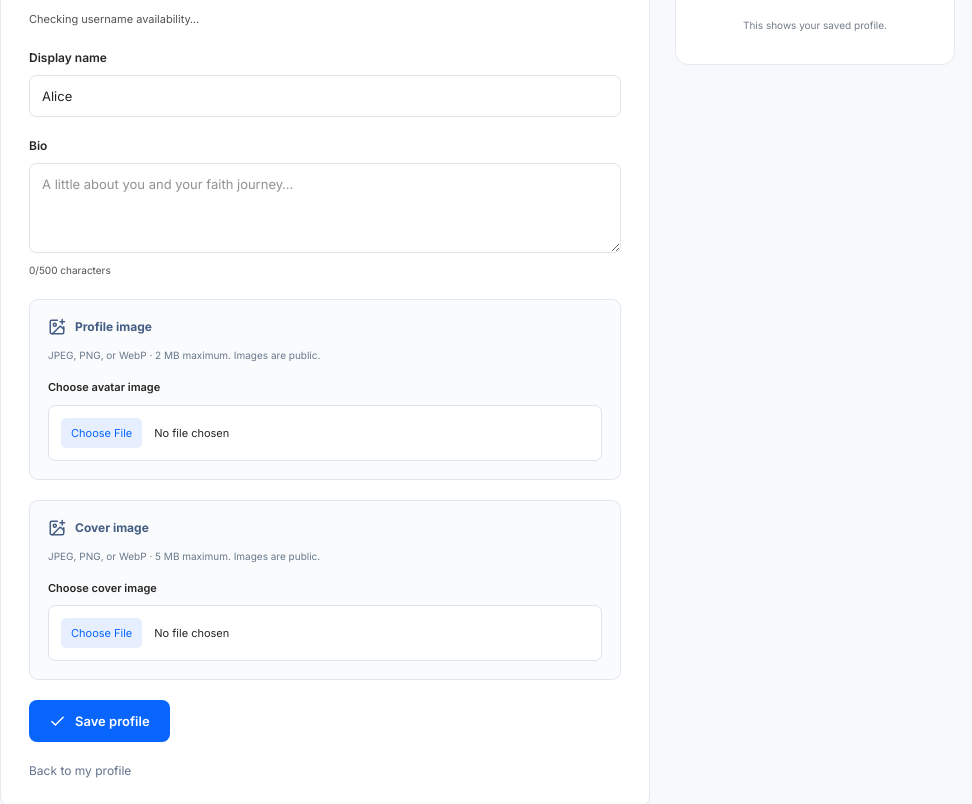
Test: secure profile editing UI › handles a username race reported by the database without claiming a successful save
(page scrolled)
Click the button "Save profile" at {"x": 99, "y": 721}, box 29,700 -> 170,742
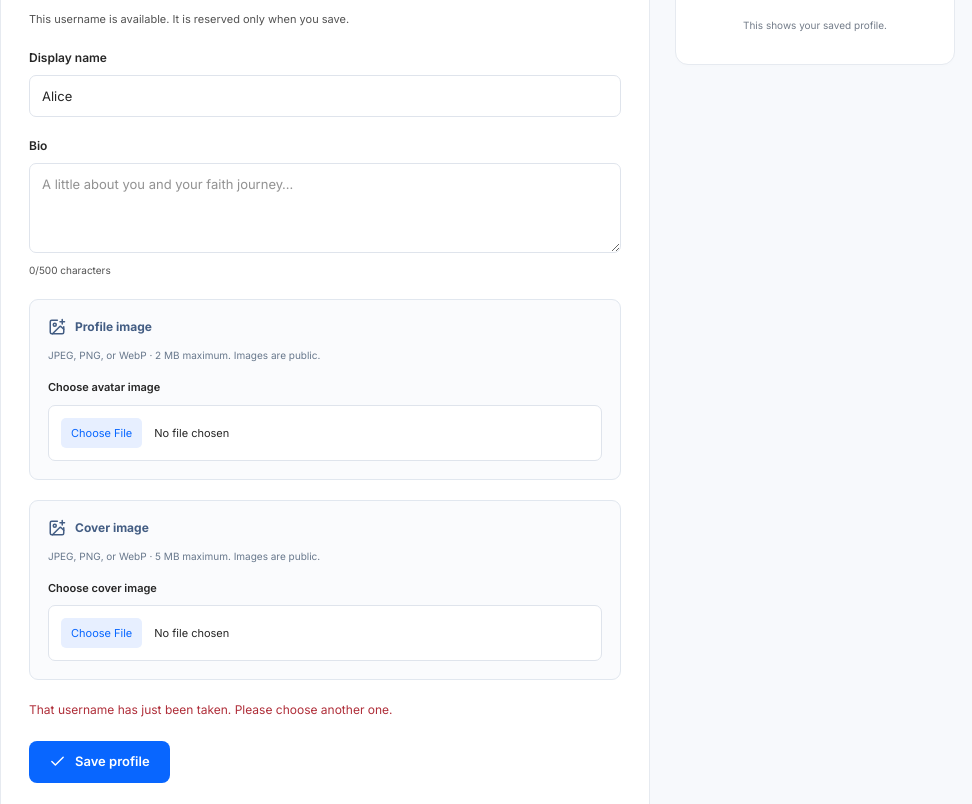
Check: the message "That username has just been taken. Please choose another one." is shown, box 29,702 -> 392,717
